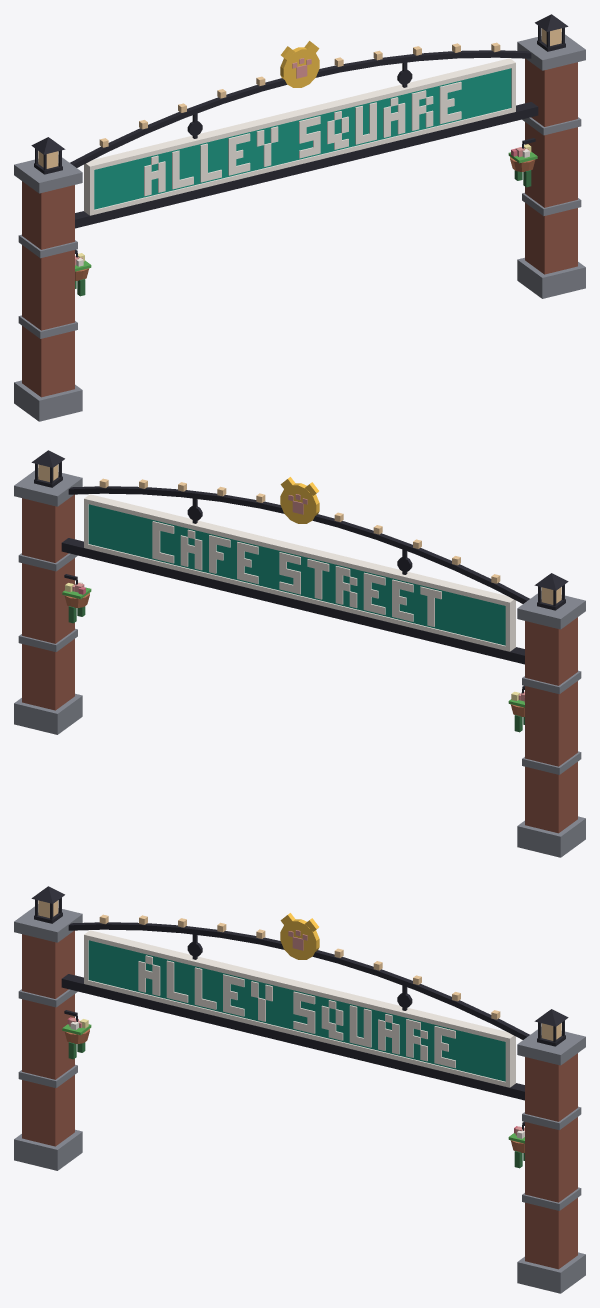
File: CatCafe_Alley_ArchStreet.glb
3 renders of one model, top to bottom at view 1: azimuth 30°, elevation 25°; view 2: azimuth 150°, elevation 25°; view 3: azimuth 330°, elevation 25°, orthographic.
Parts seen in each view (by area): view 1: CatCafe_Alley_ArchStreet, CatCafe_Alley_ArchStreet_Bulbs, CatCafe_Alley_ArchStreet_Flowers, CatCafe_Alley_ArchStreet_Lamp_Bulb; view 2: CatCafe_Alley_ArchStreet, CatCafe_Alley_ArchStreet_Bulbs, CatCafe_Alley_ArchStreet_Flowers, CatCafe_Alley_ArchStreet_Lamp_Bulb; view 3: CatCafe_Alley_ArchStreet, CatCafe_Alley_ArchStreet_Bulbs, CatCafe_Alley_ArchStreet_Flowers, CatCafe_Alley_ArchStreet_Lamp_Bulb.
Boxes of the visible parts, x1,y1,x2,y2 form: CatCafe_Alley_ArchStreet: (14,14,585,421); CatCafe_Alley_ArchStreet_Bulbs: (99,42,500,147); CatCafe_Alley_ArchStreet_Flowers: (75,144,537,271); CatCafe_Alley_ArchStreet_Lamp_Bulb: (38,28,561,168); CatCafe_Alley_ArchStreet: (14,450,585,857); CatCafe_Alley_ArchStreet_Bulbs: (99,478,500,583); CatCafe_Alley_ArchStreet_Flowers: (62,581,524,707); CatCafe_Alley_ArchStreet_Lamp_Bulb: (38,464,561,604); CatCafe_Alley_ArchStreet: (14,886,585,1293); CatCafe_Alley_ArchStreet_Bulbs: (99,914,500,1019); CatCafe_Alley_ArchStreet_Flowers: (62,1017,524,1143); CatCafe_Alley_ArchStreet_Lamp_Bulb: (38,900,561,1040).
Size of the model in its own units: 32.6 by 17.17 by 2.6.
1 material, 1 textured.
